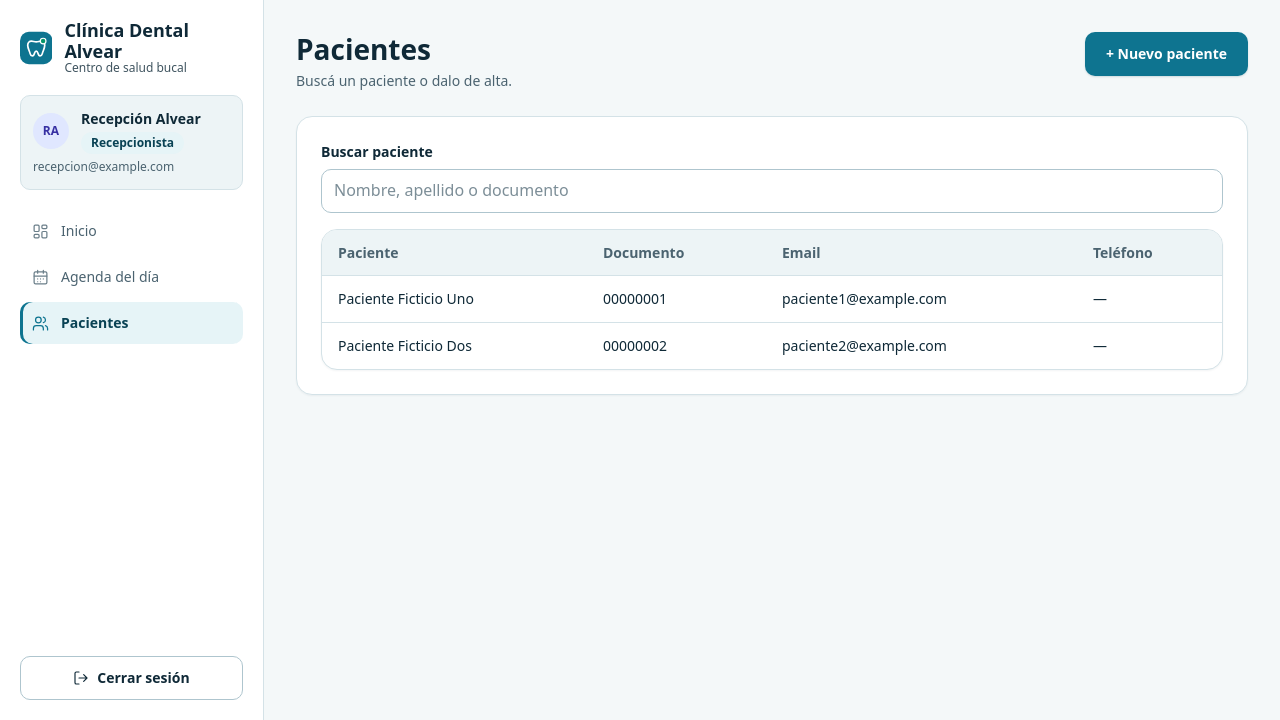
Scenario: Requirement: Pacientes › Buscar un paciente
Check: the text "Paciente Ficticio Uno" is shown, box x1=322 y1=276 x2=587 y2=322
Step 1. Type "Dos" into the search field labelled "Buscar paciente" → (772, 190), box x1=321 y1=168 x2=1223 y2=212
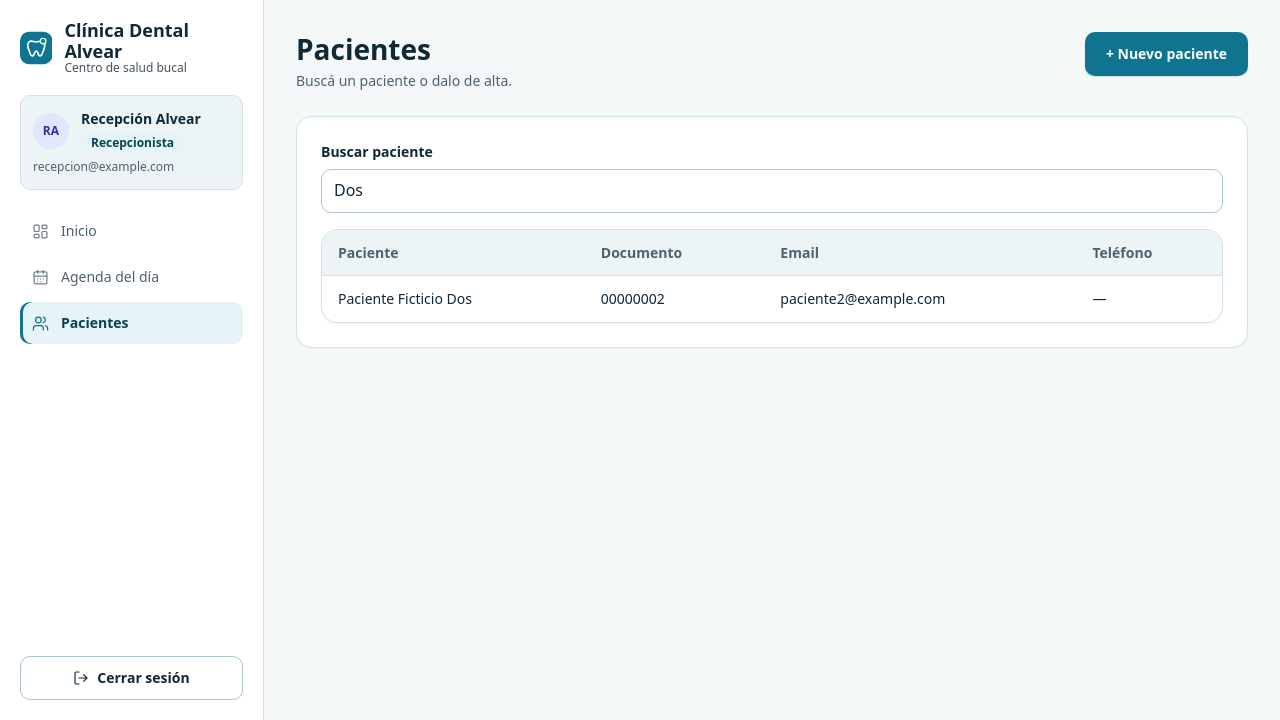
Check: the text "Paciente Ficticio Dos" is shown, box x1=322 y1=276 x2=585 y2=322
Check: the text "Paciente Ficticio Uno" is gone
